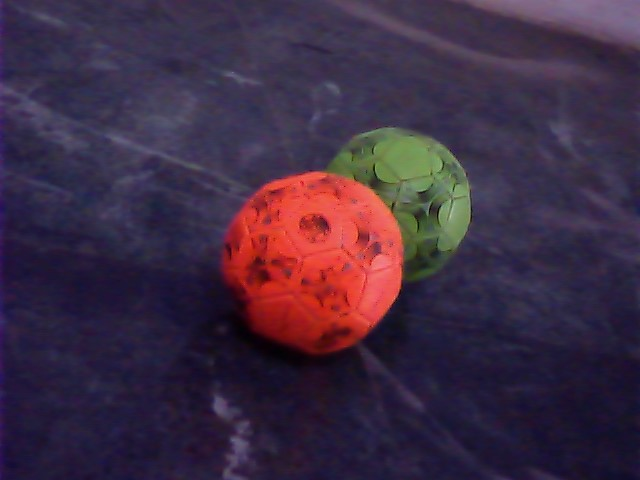Green_ball: (326, 116, 490, 284)
Orange_ball: (222, 168, 413, 366)
